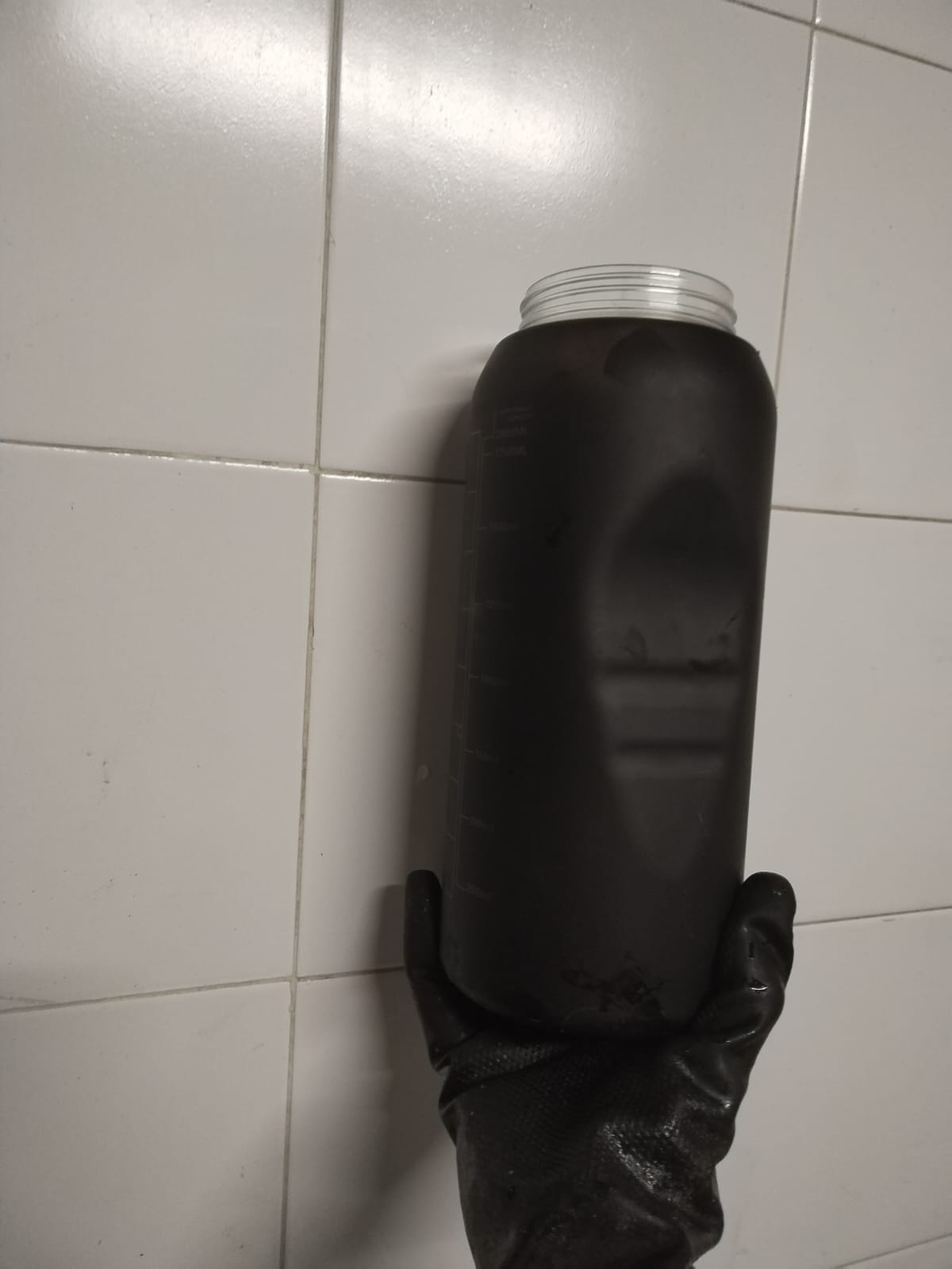Metal: (449, 320, 775, 1051)
Plastico: (520, 267, 738, 313)
